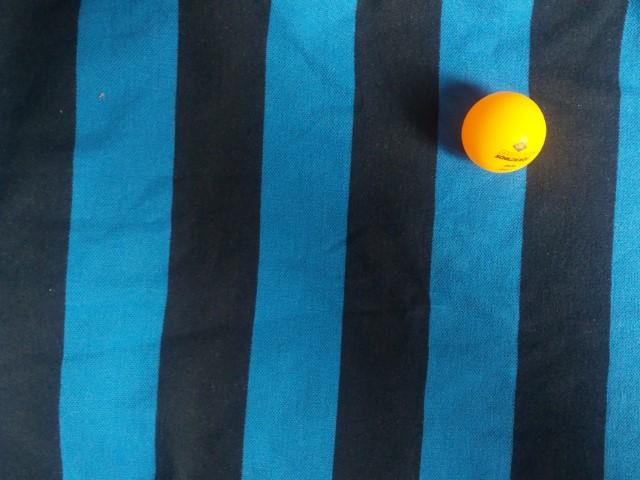oball: (87, 299, 185, 396)
